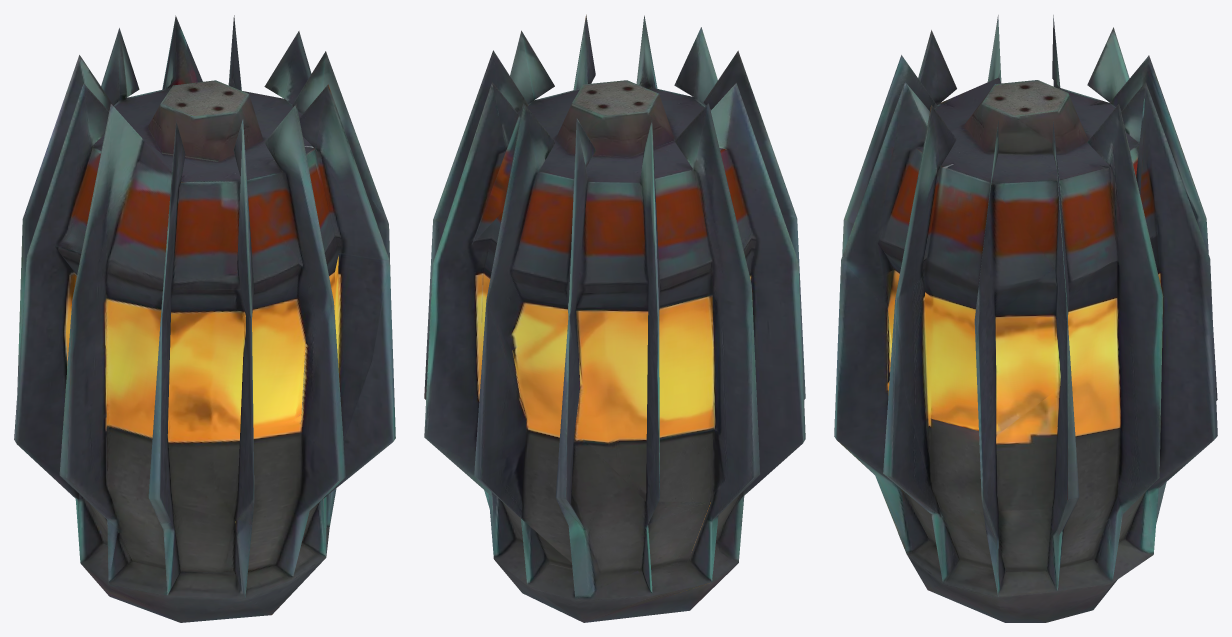
The model's file is ar3-alt-fire.glb.
3 views of the same model, side by side, from view 1: azimuth 30°, elevation 25°; view 2: azimuth 150°, elevation 25°; view 3: azimuth 270°, elevation 25° (orthographic).
Parts seen in each view (by area): view 1: Mesh_0; view 2: Mesh_0; view 3: Mesh_0.
Boxes of the visible parts, left/top/right/bottom form: Mesh_0: left=14, top=15, right=395, bottom=622; Mesh_0: left=424, top=14, right=805, bottom=622; Mesh_0: left=834, top=15, right=1217, bottom=622.
Size of the model in its own units: 1.29 by 1.91 by 1.29.
Materials: 1 (1 with a texture image).
